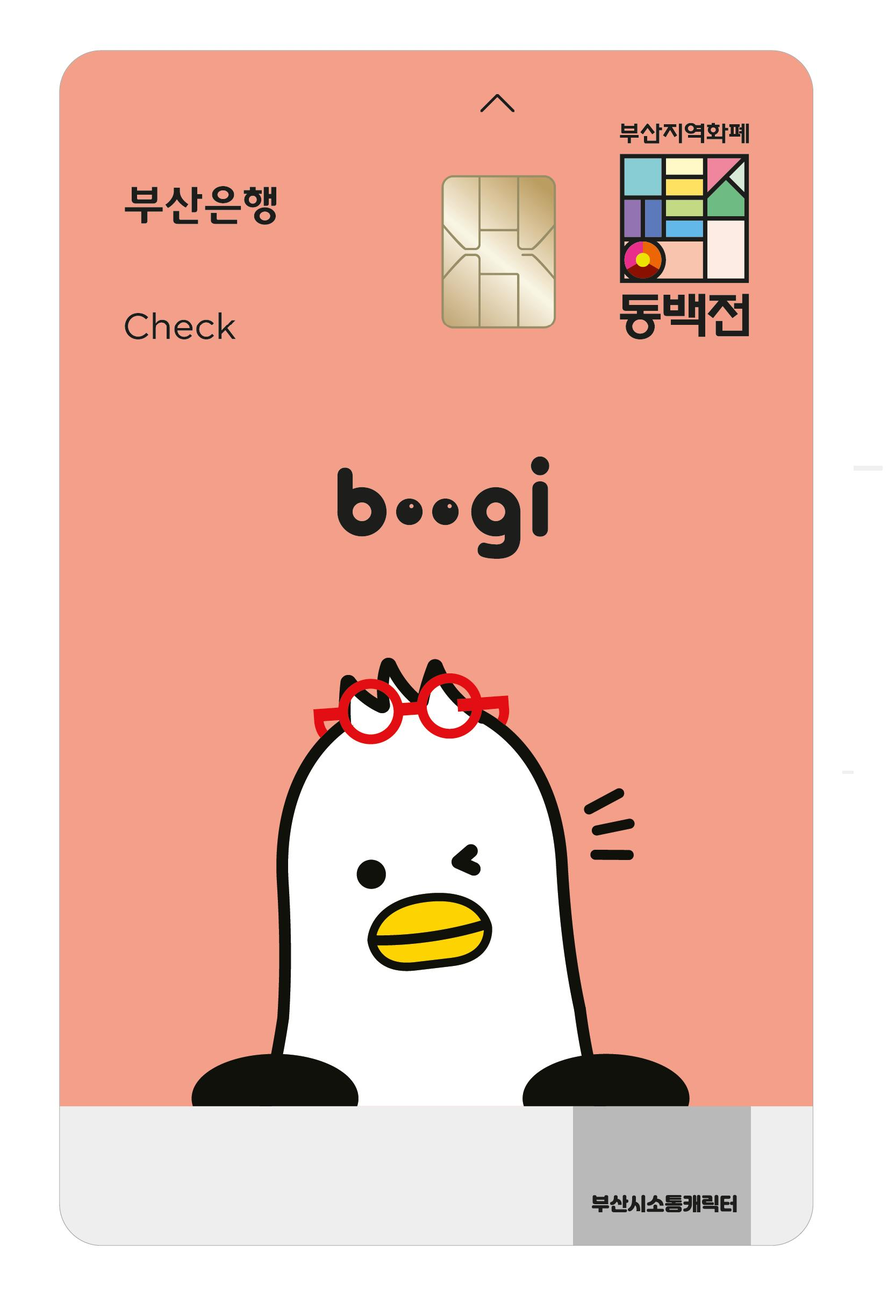Credit_card: (60, 53, 812, 1245)
